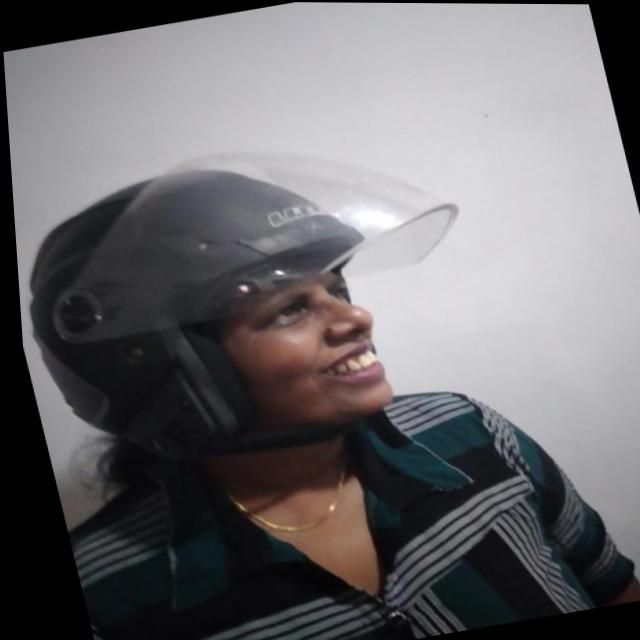helmet: (6, 115, 515, 509)
